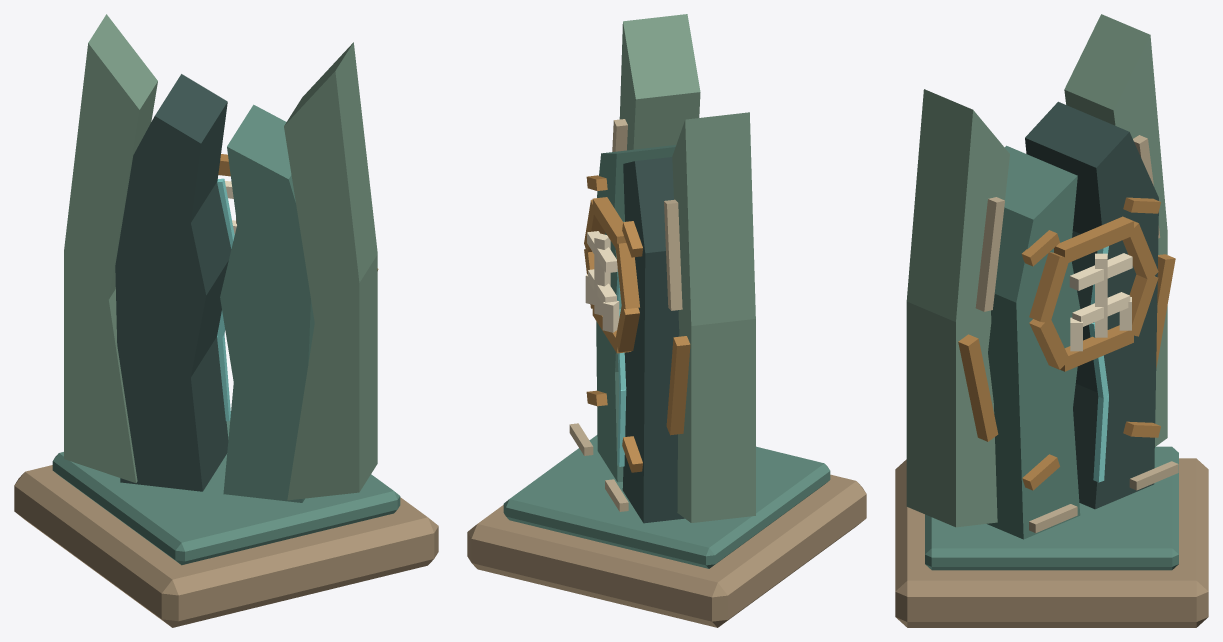
Rendered from Tower_StoneSealL2.fbx.
3 views of the same model, side by side, from view 1: azimuth 30°, elevation 25°; view 2: azimuth 150°, elevation 25°; view 3: azimuth 270°, elevation 25° (orthographic). The views are drawn at different scales.
Parts seen in each view (by area): view 1: Tower_StoneSealL2; view 2: Tower_StoneSealL2; view 3: Tower_StoneSealL2.
Boxes of the visible parts, bbox=[...] form: Tower_StoneSealL2: bbox=[14, 14, 438, 627]; Tower_StoneSealL2: bbox=[467, 14, 866, 627]; Tower_StoneSealL2: bbox=[895, 14, 1208, 627].
Size of the model in its own units: 0.9 by 1.58 by 0.9.
